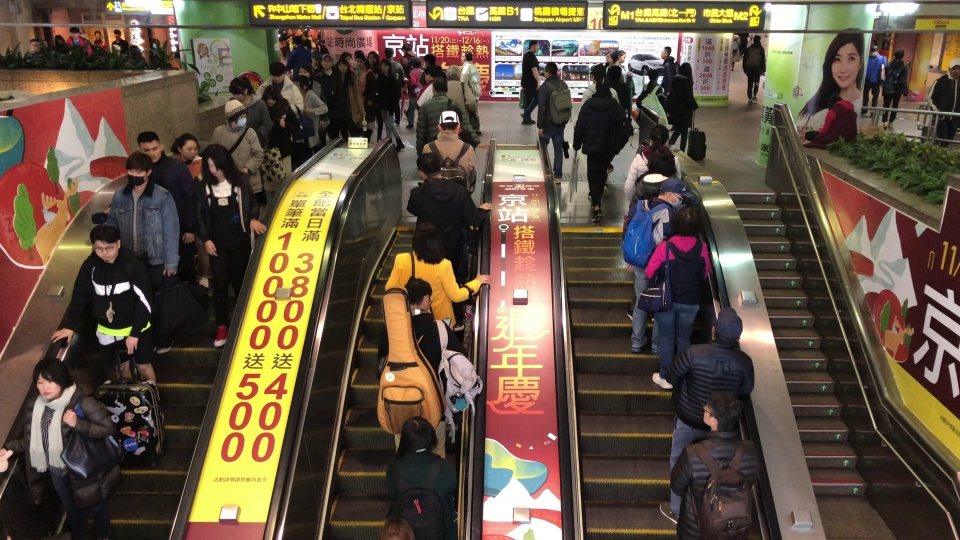person_head: (701, 389, 744, 433), (200, 145, 242, 185), (31, 358, 70, 400), (398, 417, 438, 456), (88, 221, 121, 263), (657, 175, 693, 211), (409, 221, 449, 252), (712, 306, 743, 346), (402, 278, 433, 312), (136, 130, 164, 163), (647, 148, 678, 177), (380, 516, 415, 540), (672, 202, 696, 236), (171, 134, 199, 162), (414, 152, 442, 178), (227, 77, 255, 102), (222, 100, 247, 126), (438, 110, 461, 135), (649, 124, 669, 148), (267, 61, 286, 86), (587, 62, 606, 84), (431, 76, 448, 98), (261, 89, 281, 107), (424, 65, 441, 81), (606, 66, 622, 83), (826, 94, 843, 110), (446, 64, 461, 82), (679, 61, 693, 79), (948, 59, 960, 78), (594, 83, 611, 96), (408, 56, 422, 71), (544, 62, 558, 77), (321, 54, 334, 68), (336, 59, 349, 73), (367, 51, 380, 65), (54, 35, 67, 48), (129, 44, 142, 57), (29, 38, 41, 52), (68, 26, 80, 40), (299, 68, 311, 82), (527, 39, 539, 53), (657, 46, 671, 58), (647, 70, 659, 84), (381, 59, 392, 74), (382, 45, 395, 57), (310, 51, 321, 65), (460, 52, 474, 63), (424, 54, 436, 66), (893, 48, 905, 60), (615, 50, 627, 61), (111, 43, 121, 56), (291, 37, 302, 47), (42, 39, 51, 50), (150, 39, 160, 48), (356, 59, 365, 69), (752, 35, 762, 44), (869, 44, 879, 53), (113, 29, 122, 38), (94, 30, 102, 40), (606, 51, 613, 62), (403, 43, 412, 51)
person_vbox: (657, 303, 756, 525), (8, 357, 127, 540), (108, 130, 201, 355), (375, 277, 484, 453), (55, 220, 161, 387), (199, 143, 266, 346), (670, 388, 759, 540), (640, 202, 711, 390), (621, 174, 693, 345), (383, 220, 492, 328), (398, 152, 483, 281), (624, 146, 679, 320), (572, 83, 633, 221), (385, 417, 457, 528), (207, 100, 266, 216), (416, 75, 492, 159), (578, 63, 627, 173), (535, 61, 572, 185), (625, 125, 683, 203), (422, 109, 477, 187), (259, 88, 298, 178), (226, 77, 273, 150), (800, 93, 859, 150), (170, 133, 202, 232), (926, 58, 960, 147), (255, 61, 304, 118), (516, 38, 546, 127), (637, 70, 671, 147), (379, 59, 407, 152), (334, 58, 366, 139), (298, 66, 328, 151), (671, 61, 698, 151), (657, 44, 684, 133), (880, 47, 909, 129), (321, 53, 344, 147), (444, 65, 478, 127), (859, 43, 888, 115), (352, 59, 375, 142), (382, 44, 405, 126), (365, 50, 385, 141), (742, 34, 766, 105), (613, 48, 636, 121), (406, 54, 425, 130), (459, 51, 482, 113), (286, 36, 310, 79), (299, 67, 324, 104), (66, 25, 93, 57), (402, 42, 422, 74), (729, 32, 742, 73), (307, 49, 323, 77), (112, 28, 129, 53), (92, 29, 110, 52), (148, 37, 161, 61)
